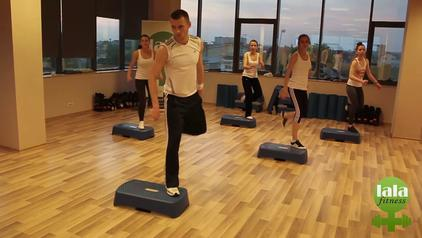down: (259, 135, 310, 166), (315, 125, 363, 143), (112, 120, 151, 138)
stay: (340, 42, 385, 126), (126, 25, 156, 134), (240, 43, 263, 105)
walk: (278, 33, 316, 135)
